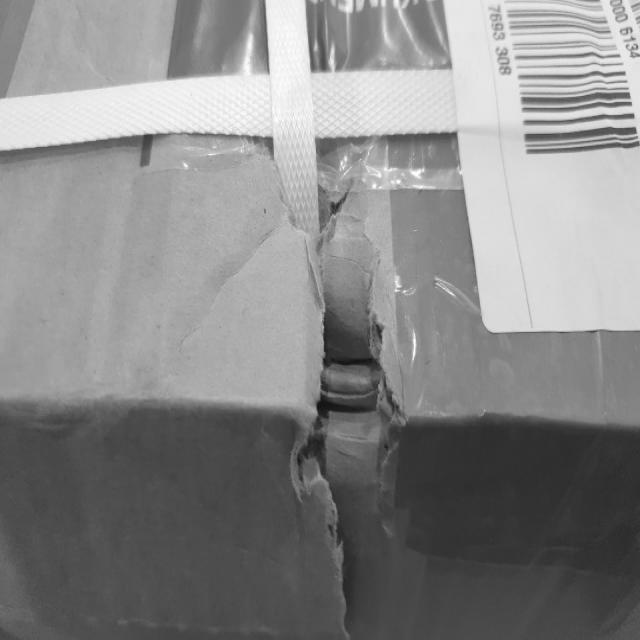hole: (317, 195, 399, 639)
